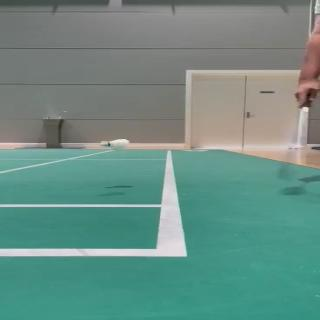Shuttle: (100, 139, 129, 151)
